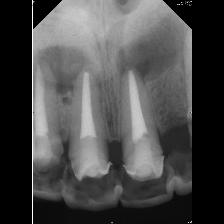apical_lesion: (108, 35, 175, 211), (63, 39, 124, 212), (33, 32, 70, 203)
